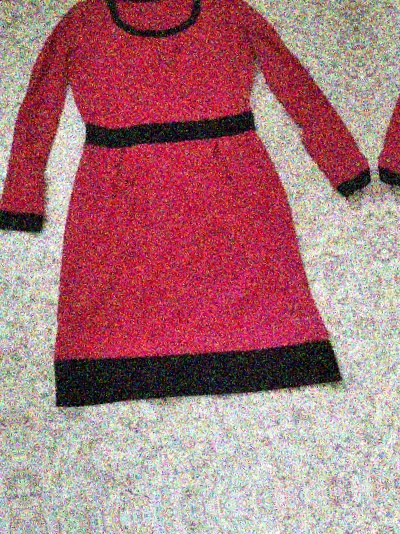Dress: (0, 0, 394, 445), (355, 0, 400, 395), (0, 0, 15, 494)
